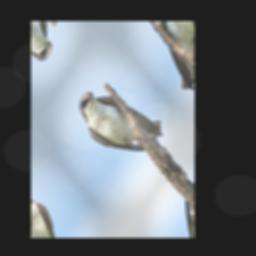Swallow: (71, 56, 171, 188)
